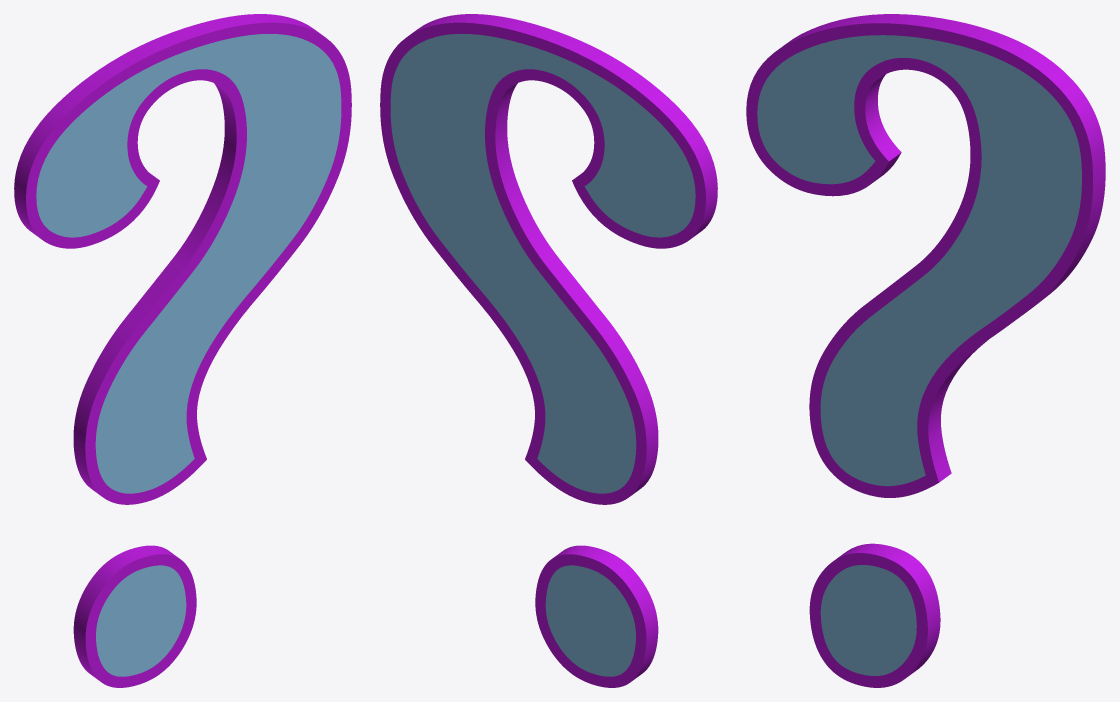
The model's file is Mark Question.fbx.
3 renders of one model, left to right at view 1: azimuth 30°, elevation 25°; view 2: azimuth 150°, elevation 25°; view 3: azimuth 330°, elevation 25°, orthographic. The views are drawn at different scales.
Visible parts, largest first — view 1: Mark Question; view 2: Mark Question; view 3: Mark Question.
Boxes of the visible parts, box(x1,y1,x2,y2) form: Mark Question: box(14, 14, 351, 687); Mark Question: box(380, 14, 717, 687); Mark Question: box(746, 14, 1105, 687).
Bounding box in the file's own units: 31.76 × 59.14 × 2.
